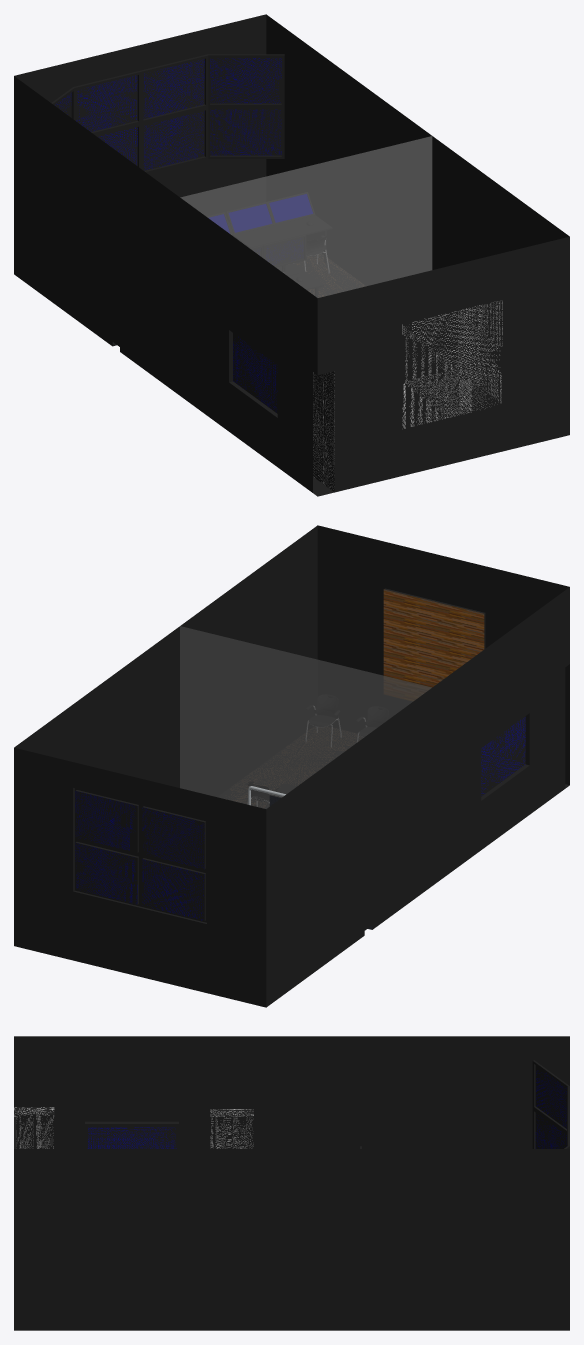
File: HBXLiveControlRoom3.dae
The picture shows the model from 3 angles, top to bottom: view 1: azimuth 30°, elevation 25°; view 2: azimuth 150°, elevation 25°; view 3: azimuth 270°, elevation 25°; orthographic projection. The views are drawn at different scales.
Visible parts, largest first — view 1: SketchUp (×18), Monitor; view 2: SketchUp (×13); view 3: SketchUp (×6).
Part boxes in pixels (x1,y1,x2,y2): SketchUp (×18): [14, 14, 569, 492]; Monitor: [265, 238, 303, 265]; SketchUp (×13): [14, 525, 569, 1007]; SketchUp (×6): [14, 1036, 569, 1330].
Bounding box in the file's own units: 219 × 458 × 165.
Materials: 18 (4 with a texture image).
